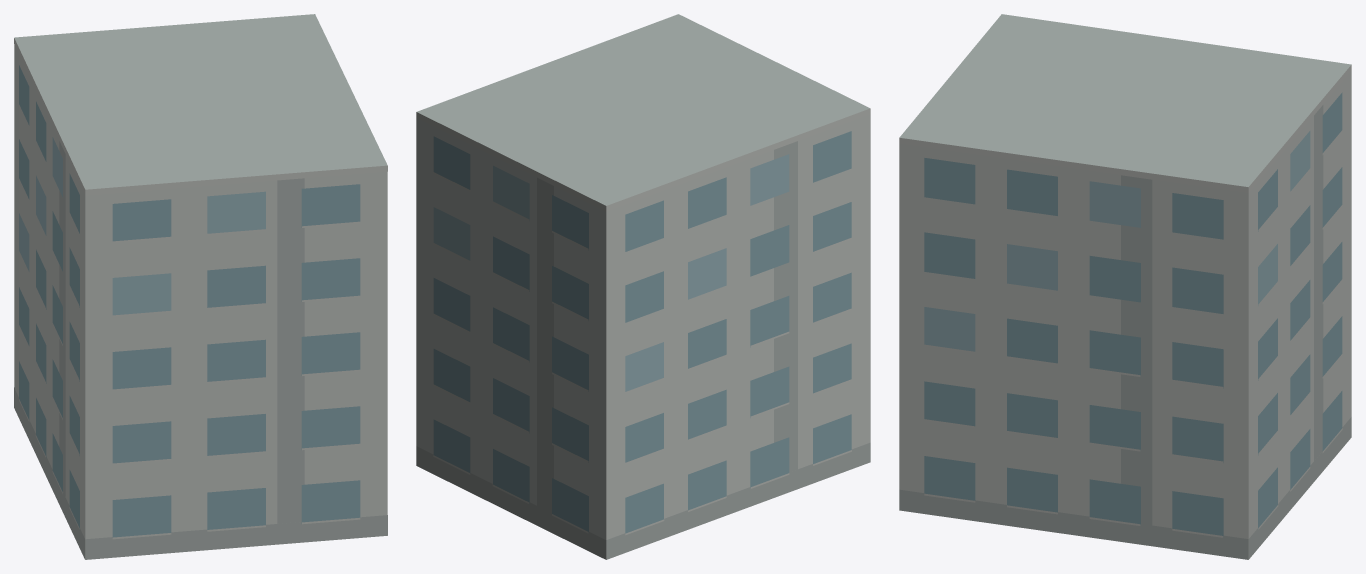
The model's file is survey-upis-32886799.glb.
3 renders of one model, left to right at view 1: azimuth 30°, elevation 25°; view 2: azimuth 150°, elevation 25°; view 3: azimuth 270°, elevation 25°, orthographic. The views are drawn at different scales.
Parts seen in each view (by area): view 1: survey-upis-32886799.tmp; view 2: survey-upis-32886799.tmp; view 3: survey-upis-32886799.tmp.
Boxes of the visible parts, x1,y1,x2,y2 form: survey-upis-32886799.tmp: (14, 14, 387, 559); survey-upis-32886799.tmp: (416, 14, 870, 559); survey-upis-32886799.tmp: (899, 14, 1351, 559).
Bounding box in the file's own units: 14.72 × 14.76 × 16.24.
